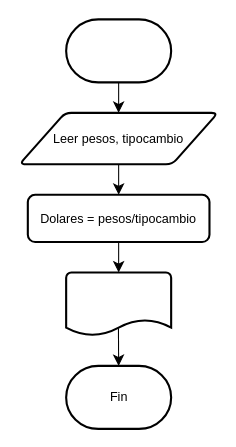
Image size: 236x447. Some labels were removed from this diagram. The shapes that lost their labels are listed below. From the top down, each one's box as (x1, y1, x2, y2) in pixels, then its label:
(65, 18, 172, 83): Inicio
(65, 271, 172, 336): Dolares
